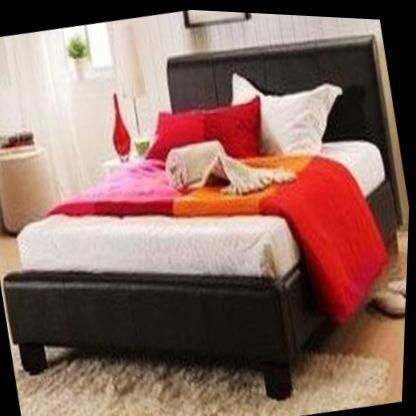Bed: (0, 11, 416, 416)
